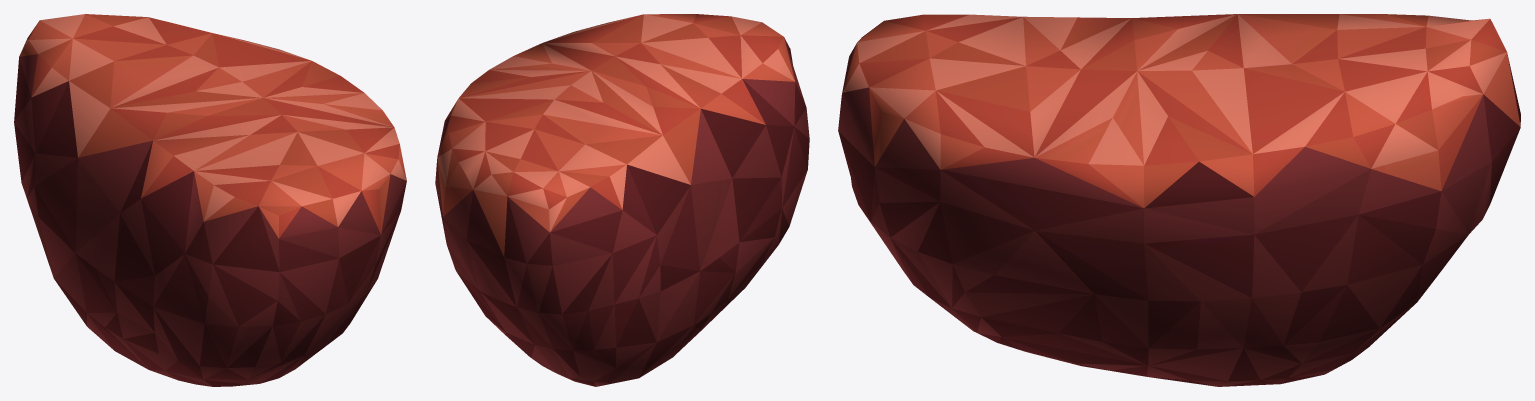
Rendered from Semicircle.fbx.
3 renders of one model, left to right at view 1: azimuth 30°, elevation 25°; view 2: azimuth 150°, elevation 25°; view 3: azimuth 270°, elevation 25°, orthographic. The views are drawn at different scales.
Visible parts, largest first — view 1: polySurface1; view 2: polySurface1; view 3: polySurface1.
Boxes of the visible parts, box(x1,y1,x2,y2) form: polySurface1: box(14, 14, 406, 386); polySurface1: box(435, 14, 809, 386); polySurface1: box(838, 14, 1520, 386).
Size of the model in its own units: 510 by 472 by 859.
